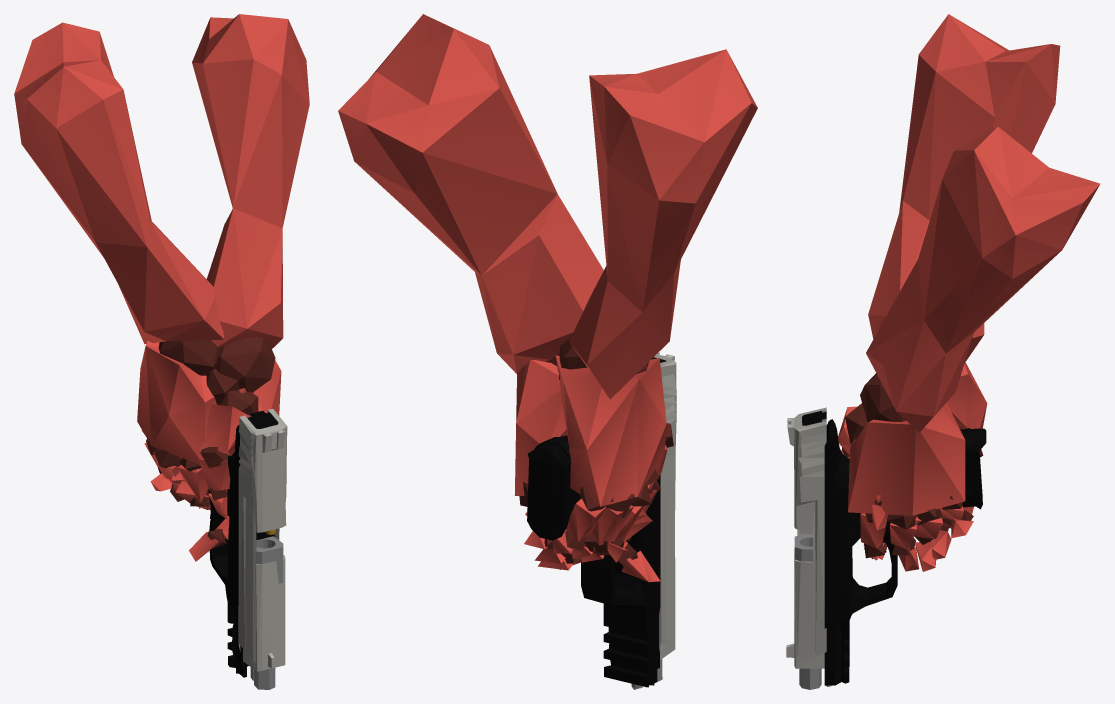
The model's file is M&P9shoot3LowP_000203.obj.
3 renders of one model, left to right at view 1: azimuth 30°, elevation 25°; view 2: azimuth 150°, elevation 25°; view 3: azimuth 270°, elevation 25°, orthographic. The views are drawn at different scales.
Visible parts, largest first — view 1: Beta_Surface.001_Beta_Surface.002, slide_平面.002, Beta_Joints.001_Beta_Joints.002, triger_平面.001; view 2: Beta_Surface.001_Beta_Surface.002, triger_平面.001, slide_平面.002, Beta_Joints.001_Beta_Joints.002; view 3: Beta_Surface.001_Beta_Surface.002, triger_平面.001, slide_平面.002, Beta_Joints.001_Beta_Joints.002.
Boxes of the visible parts, x1,y1,x2,y2 form: Beta_Surface.001_Beta_Surface.002: (14,14,309,561); slide_平面.002: (238,409,287,671); Beta_Joints.001_Beta_Joints.002: (140,336,275,548); triger_平面.001: (208,425,283,689); Beta_Surface.001_Beta_Surface.002: (338,14,757,582); triger_平面.001: (527,435,662,689); slide_平面.002: (652,352,676,659); Beta_Joints.001_Beta_Joints.002: (519,337,673,569); Beta_Surface.001_Beta_Surface.002: (838,14,1100,571); triger_平面.001: (794,419,986,689); slide_平面.002: (786,407,826,668); Beta_Joints.001_Beta_Joints.002: (842,373,983,558).
Bounding box in the file's own units: 42.47 × 80.1 × 37.62.
